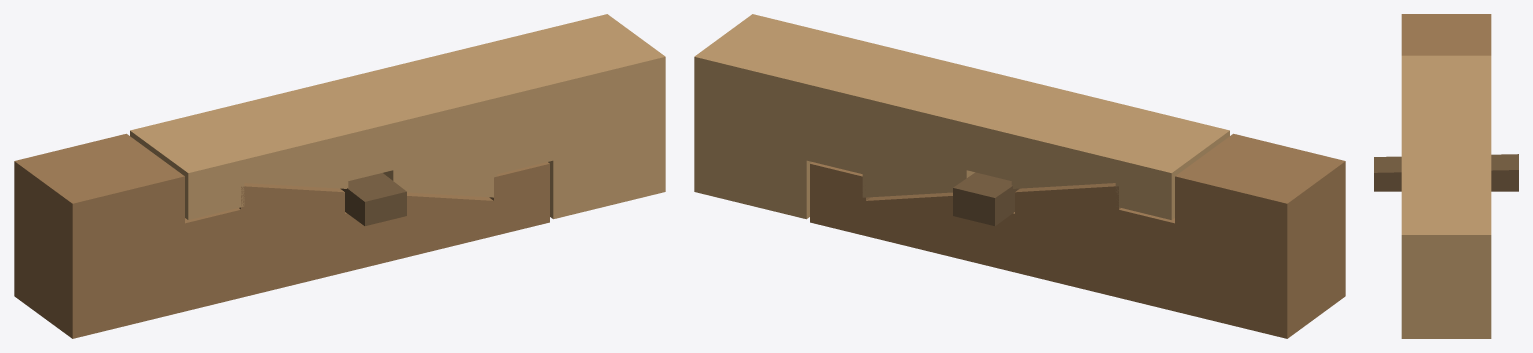
The picture shows the model from 3 angles, left to right: view 1: azimuth 30°, elevation 25°; view 2: azimuth 150°, elevation 25°; view 3: azimuth 270°, elevation 25°; orthographic projection. The views are drawn at different scales.
Visible parts, largest first — view 1: WholeUpperHookedScarfMember, WholeLowerHookedScarfMember, WholeTransverseTaperedHardwoodKey; view 2: WholeUpperHookedScarfMember, WholeLowerHookedScarfMember, WholeTransverseTaperedHardwoodKey; view 3: WholeUpperHookedScarfMember, WholeLowerHookedScarfMember, WholeTransverseTaperedHardwoodKey.
Boxes of the visible parts, bbox=[...] form: WholeUpperHookedScarfMember: bbox=[130, 14, 665, 219]; WholeLowerHookedScarfMember: bbox=[14, 133, 549, 338]; WholeTransverseTaperedHardwoodKey: bbox=[340, 173, 406, 225]; WholeUpperHookedScarfMember: bbox=[694, 14, 1229, 219]; WholeLowerHookedScarfMember: bbox=[810, 133, 1345, 338]; WholeTransverseTaperedHardwoodKey: bbox=[953, 172, 1019, 225]; WholeUpperHookedScarfMember: bbox=[1401, 55, 1491, 338]; WholeLowerHookedScarfMember: bbox=[1401, 14, 1491, 55]; WholeTransverseTaperedHardwoodKey: bbox=[1374, 154, 1518, 191].
Bounding box in the file's own units: 2.11 × 0.468 × 0.58.
